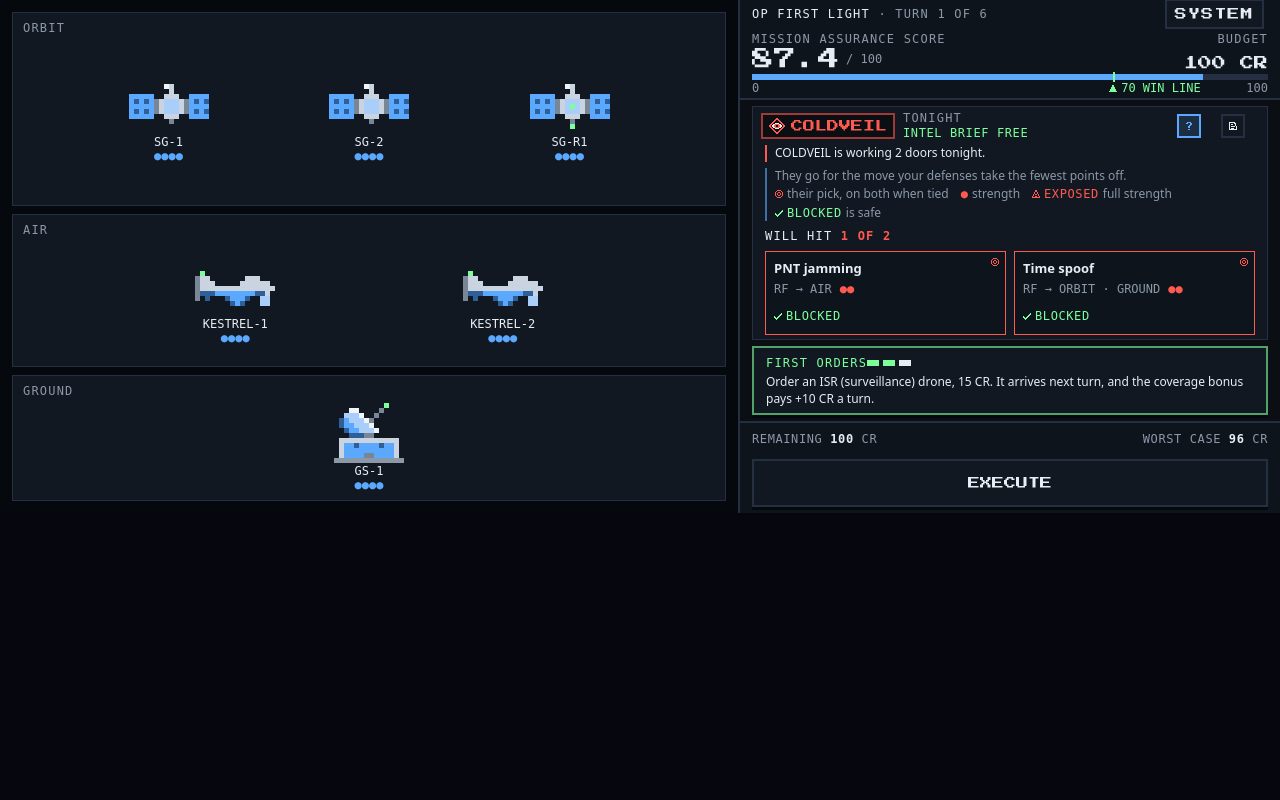
Test case: render counts on the board (v1.2 R2 fix, v1.3 R2 strip) › renders no tile sprite through a quiet night: the overlay, a held strike per move, and its cards
The image size is (1280, 800).
Click the button "EXECUTE" at (1010, 483), box [752,459,1268,507]
Wait 7500 ms
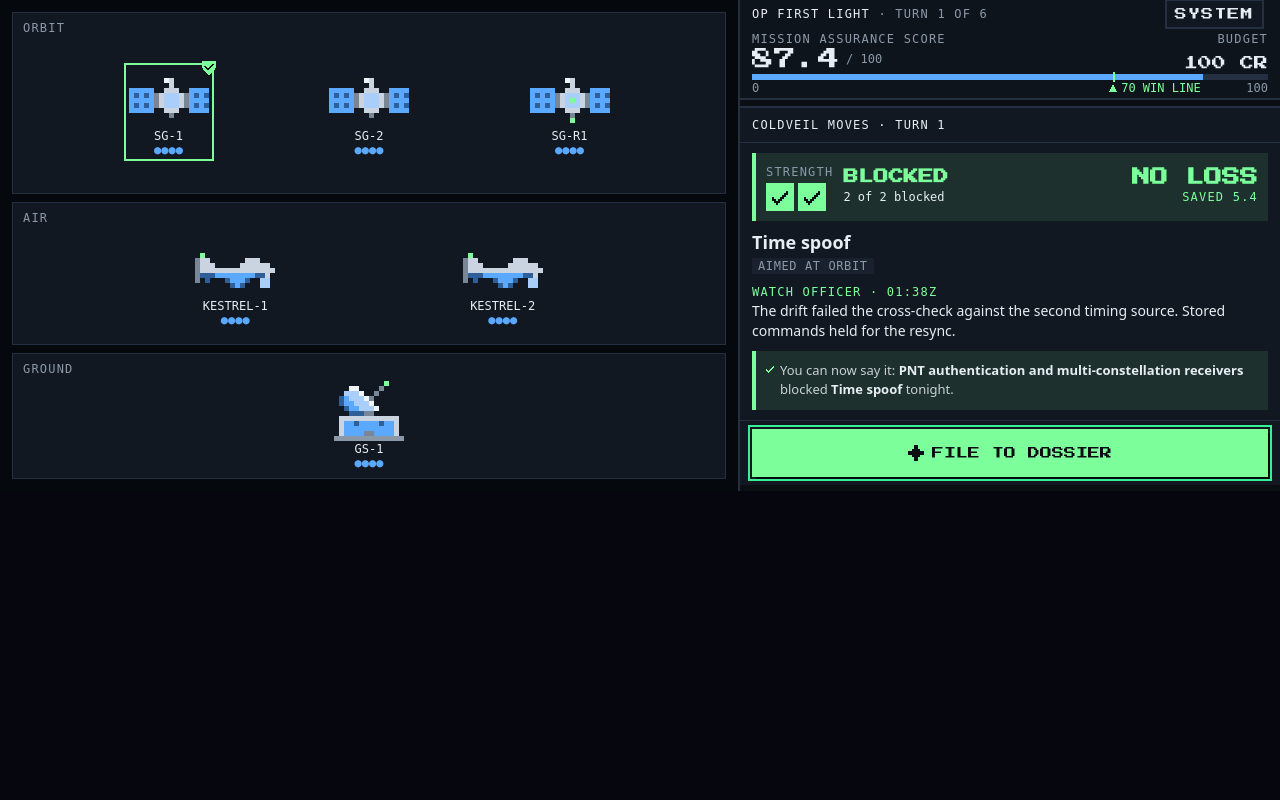
Click the button "FILE TO DOSSIER" at (1010, 453), box [752,429,1268,477]
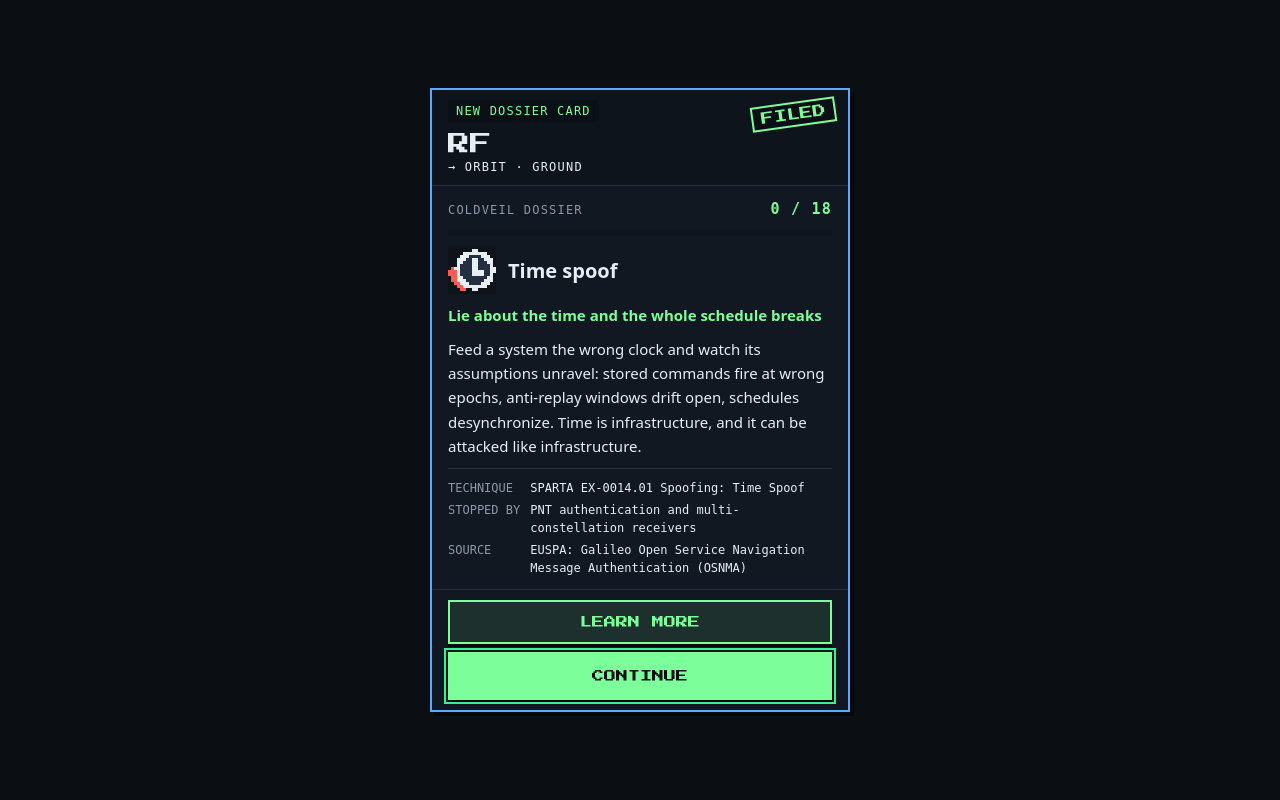
Click the button "CONTINUE" at (640, 676), box [448,652,832,700]
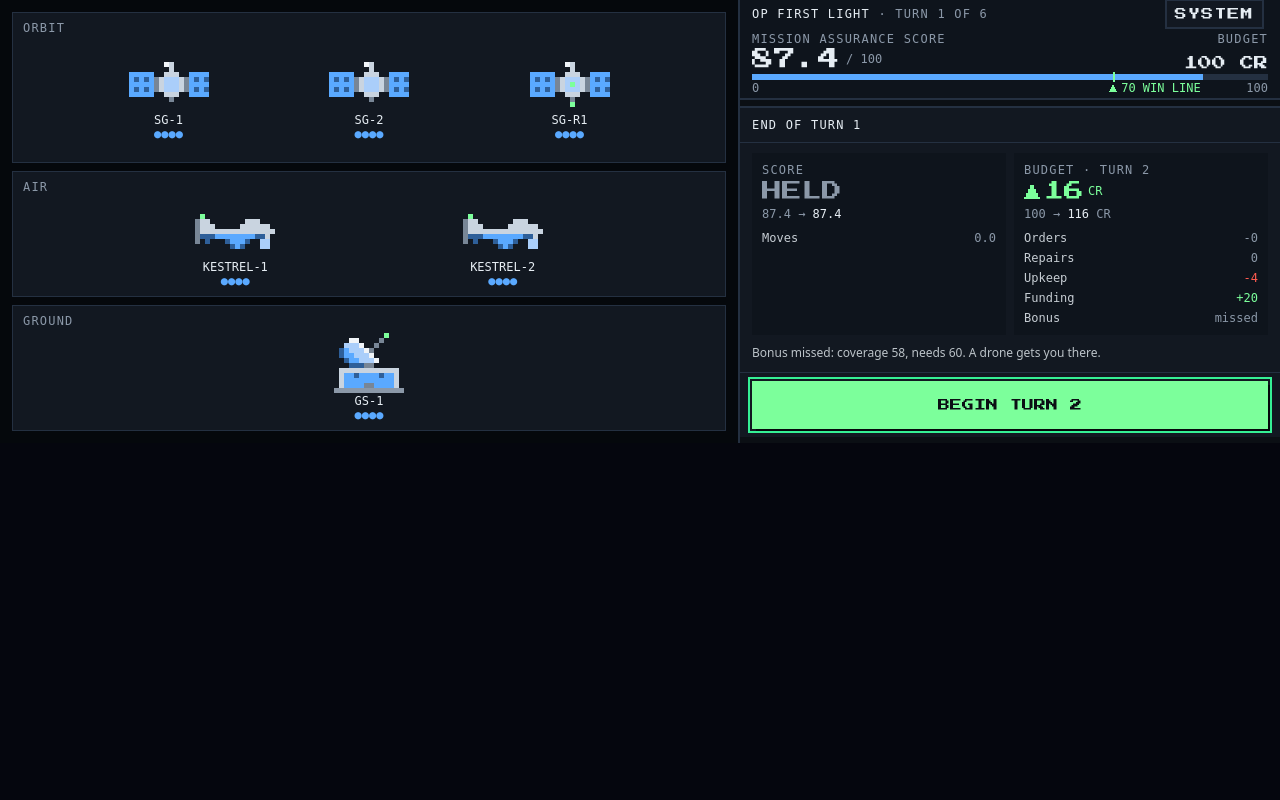
Expected: the element named "Assets" is shown, [0,0,740,442]
Expected: the button "BEGIN TURN 2" is shown, [752,380,1268,428]
